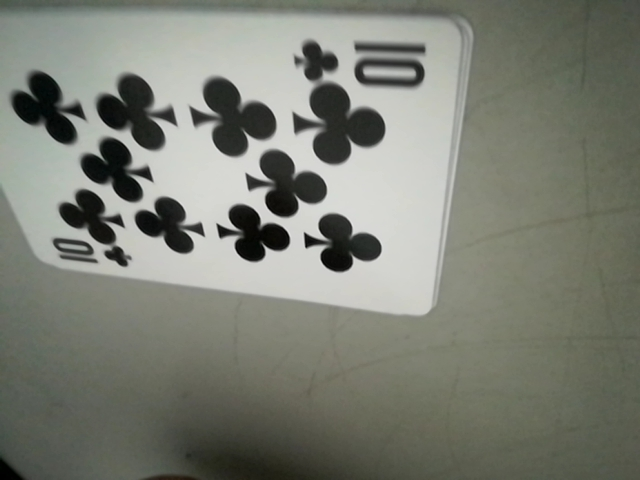mh 10: (294, 28, 440, 87), (44, 237, 134, 273)
